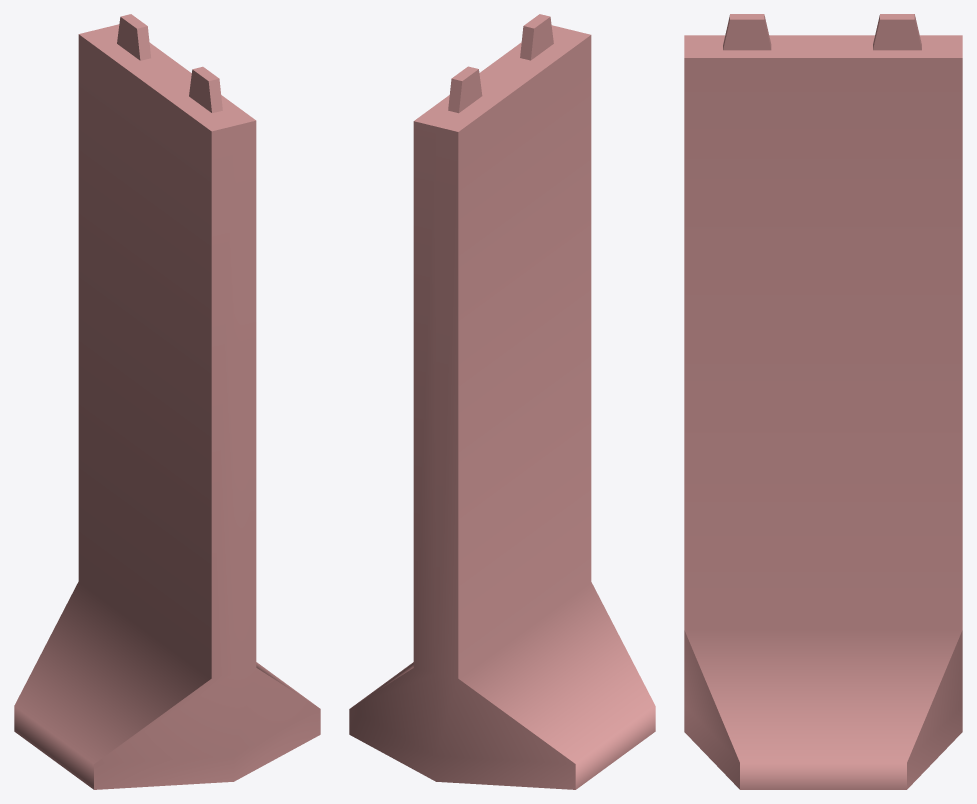
The model's file is ConcreteBarrier_B_B_COL.fbx.
The picture shows the model from 3 angles, left to right: view 1: azimuth 30°, elevation 25°; view 2: azimuth 150°, elevation 25°; view 3: azimuth 270°, elevation 25°; orthographic projection. The views are drawn at different scales.
Visible parts, largest first — view 1: ConcreteBarrier_B_B_COL; view 2: ConcreteBarrier_B_B_COL; view 3: ConcreteBarrier_B_B_COL.
Part boxes in pixels (x1,y1,x2,y2): ConcreteBarrier_B_B_COL: (14, 14, 320, 789); ConcreteBarrier_B_B_COL: (349, 14, 655, 789); ConcreteBarrier_B_B_COL: (684, 14, 962, 789).
Bounding box in the file's own units: 99.87 × 289 × 102.
